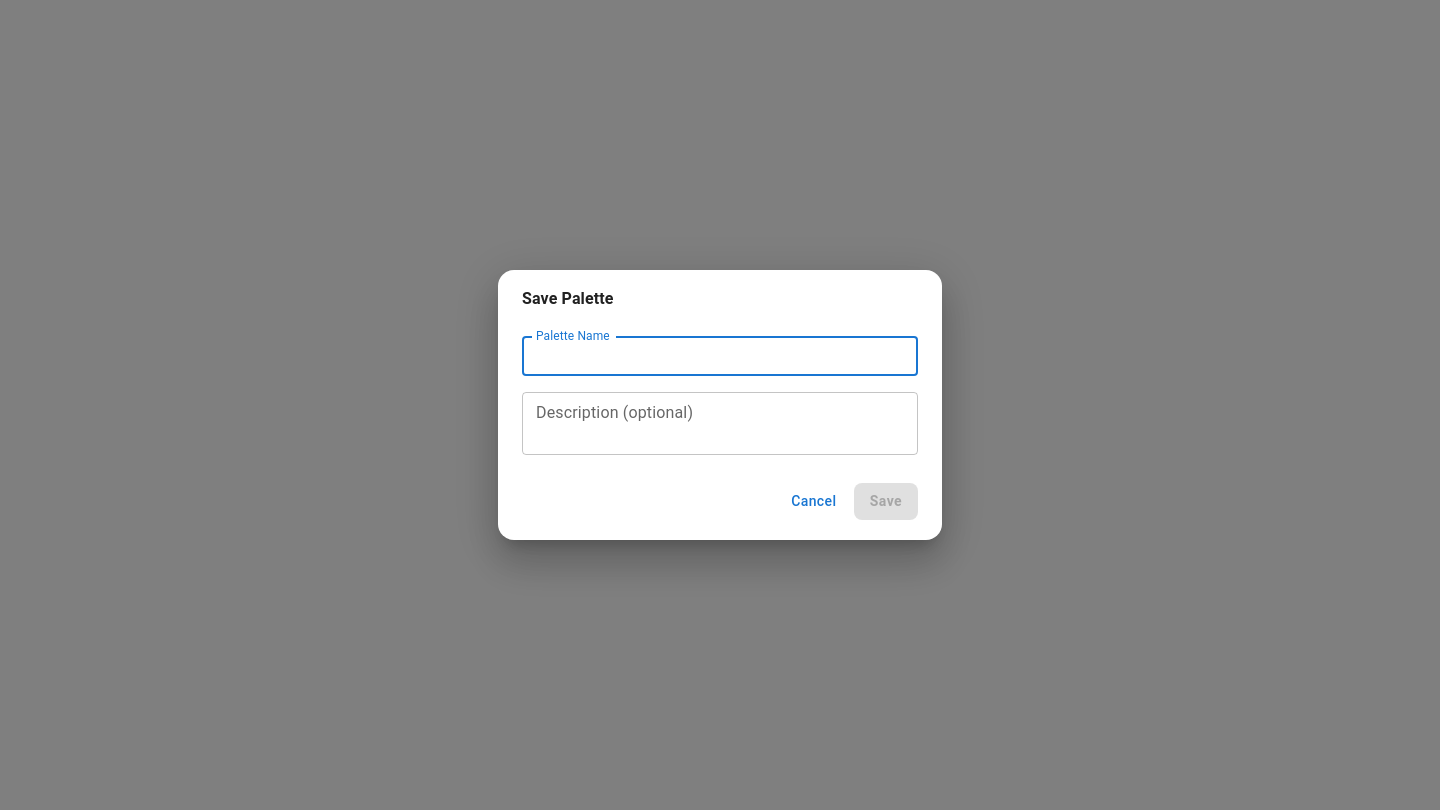
Test: SavePaletteDialog › Save button enabled after typing a name
In the field labelled "Palette Name": (720, 356) [522,336,918,376], type "Test"
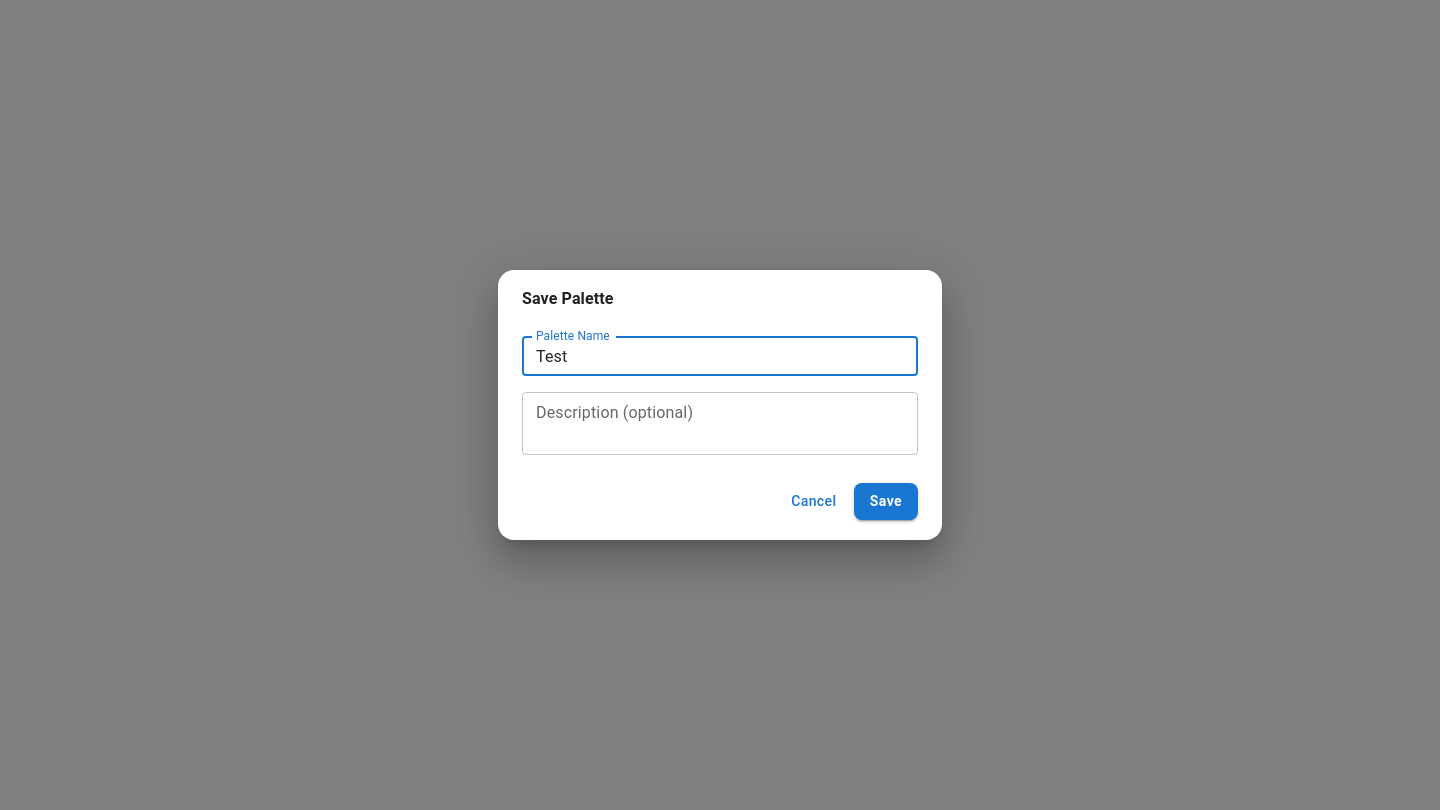
Expected: the button "Save" is enabled, [854,483,918,520]
